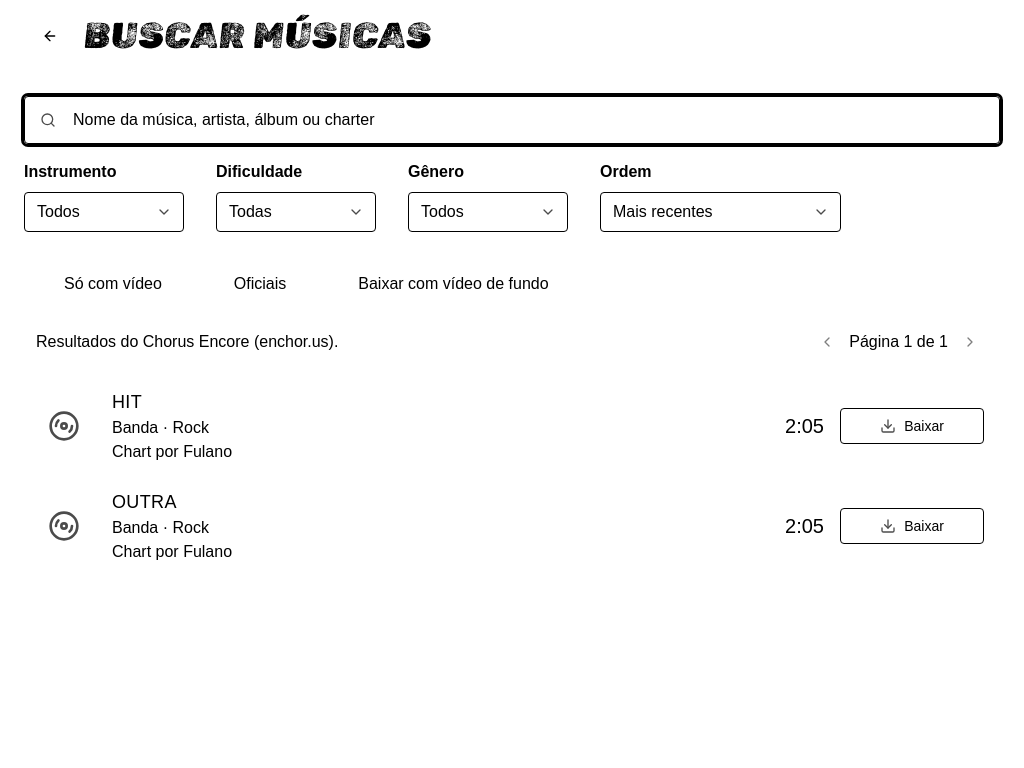
TelaDeBuscaDeMusicas › download › baixa um por vez
The image size is (1024, 768).
What coordinates should you click on to do the following:
click the button with aria-label "Baixar Hit"
I would click on:
 (912, 426)
Its box is [840,408,984,444].
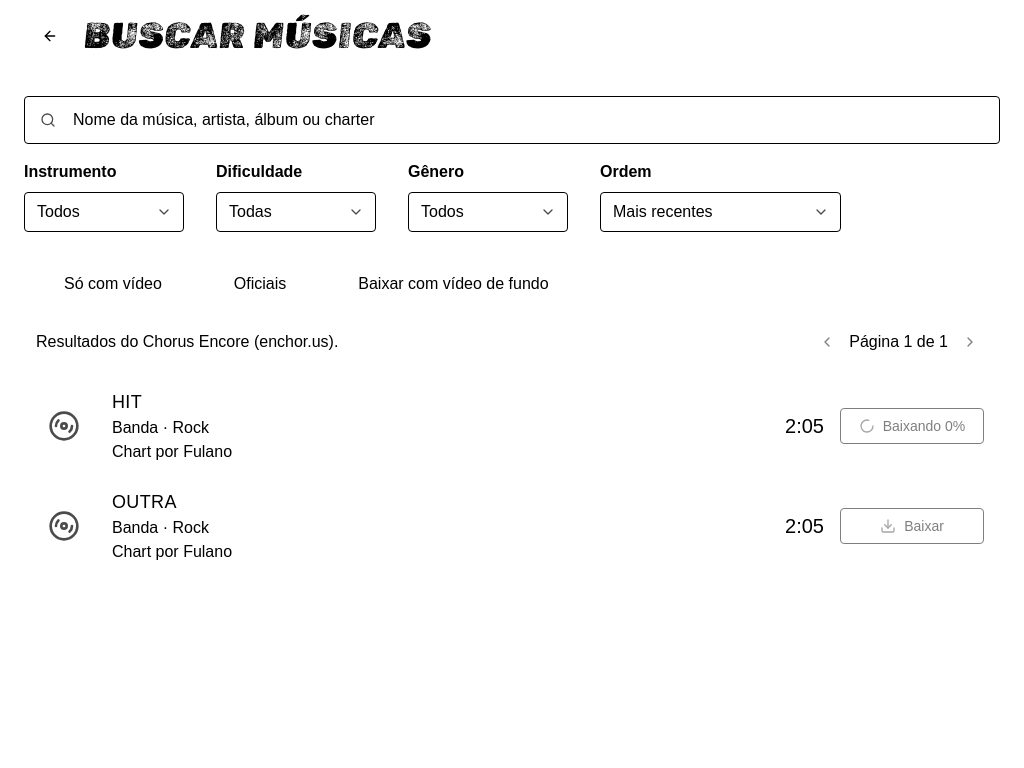
Expected: the button with aria-label "Baixar Outra" is disabled, [840,508,984,544]
